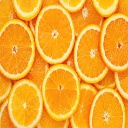orange: (33, 4, 75, 64), (6, 80, 44, 128), (98, 15, 128, 72)
